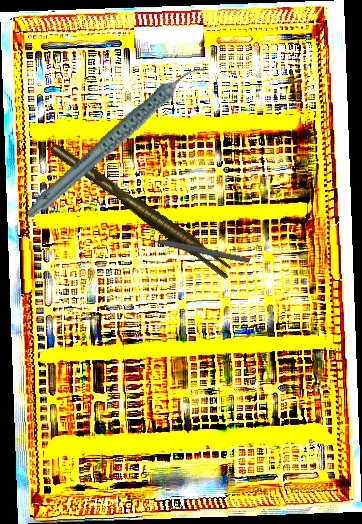Handpiece: (3, 62, 229, 221)
Surgical Spoon: (121, 229, 251, 265)
Tissue Forceps: (48, 133, 236, 286)
